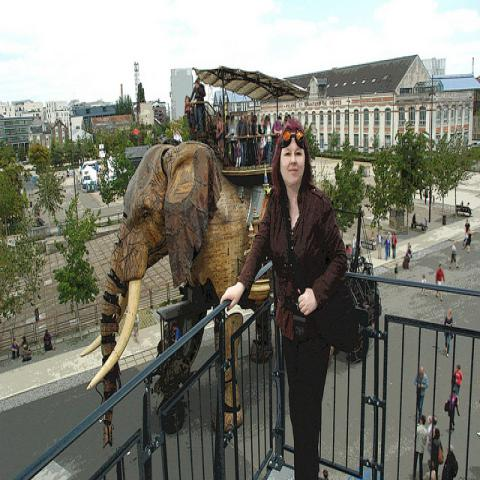car: (82, 176, 92, 190)
